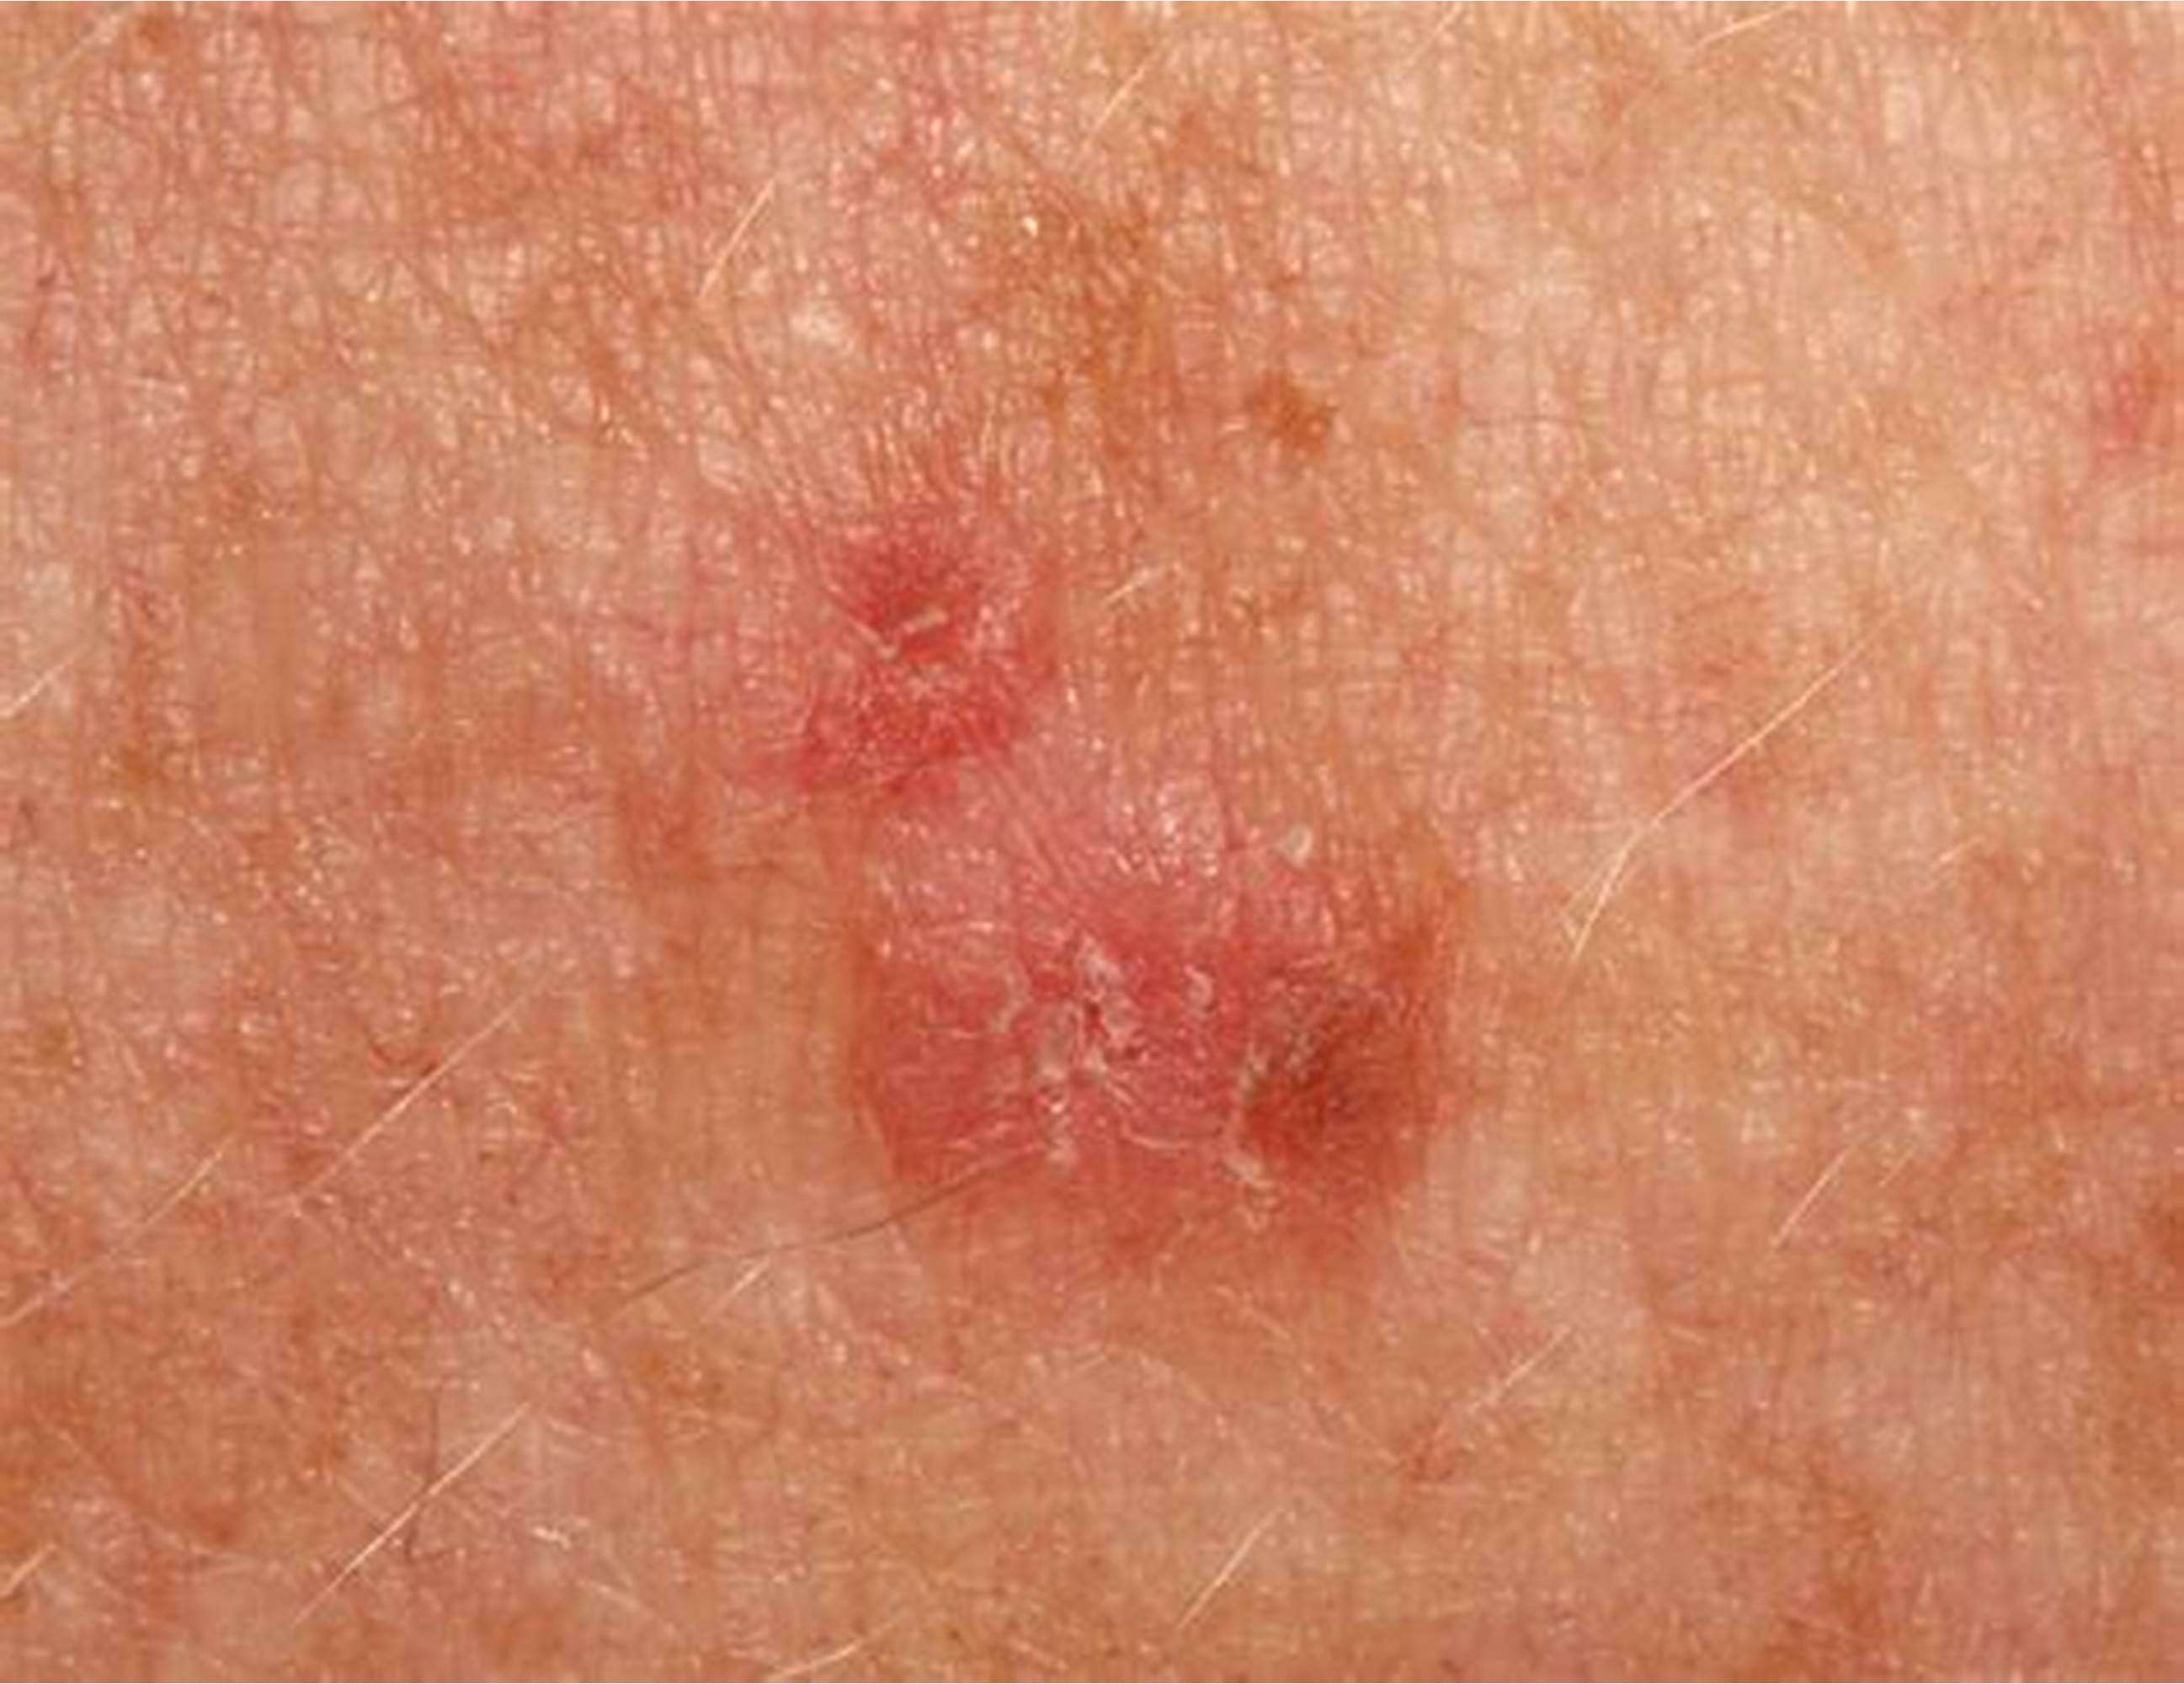Actinic Keratosis: (517, 328, 1611, 1367)
